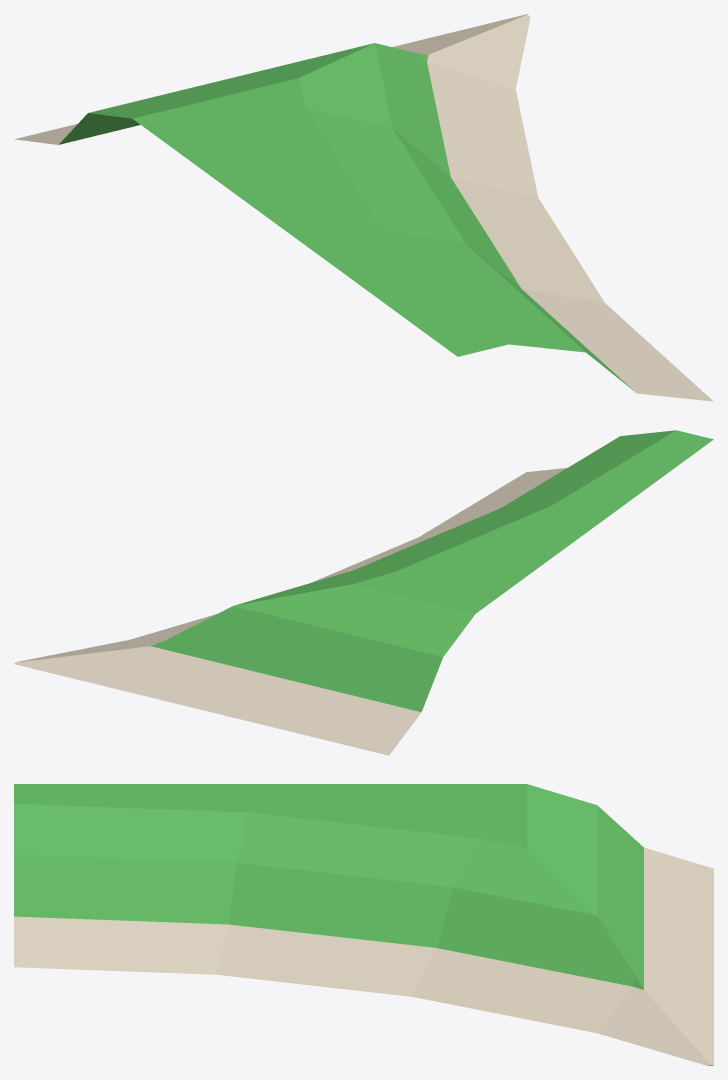
Rendered from Hilly_Terrain_Path_Corner_Y_3x3.glb.
3 views of the same model, one above another, from view 1: azimuth 30°, elevation 25°; view 2: azimuth 150°, elevation 25°; view 3: azimuth 270°, elevation 25° (orthographic). The views are drawn at different scales.
Parts seen in each view (by area): view 1: Hilly_Terrain_Path_Corner_Y_3x3; view 2: Hilly_Terrain_Path_Corner_Y_3x3; view 3: Hilly_Terrain_Path_Corner_Y_3x3.
Boxes of the visible parts, x1,y1,x2,y2 form: Hilly_Terrain_Path_Corner_Y_3x3: (15, 14, 713, 401); Hilly_Terrain_Path_Corner_Y_3x3: (14, 430, 713, 755); Hilly_Terrain_Path_Corner_Y_3x3: (14, 784, 713, 1065).
Bounding box in the file's own units: 0.336 × 0.0672 × 0.504.
